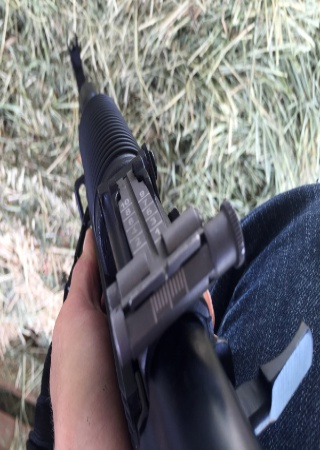rifle: (57, 27, 258, 449)
